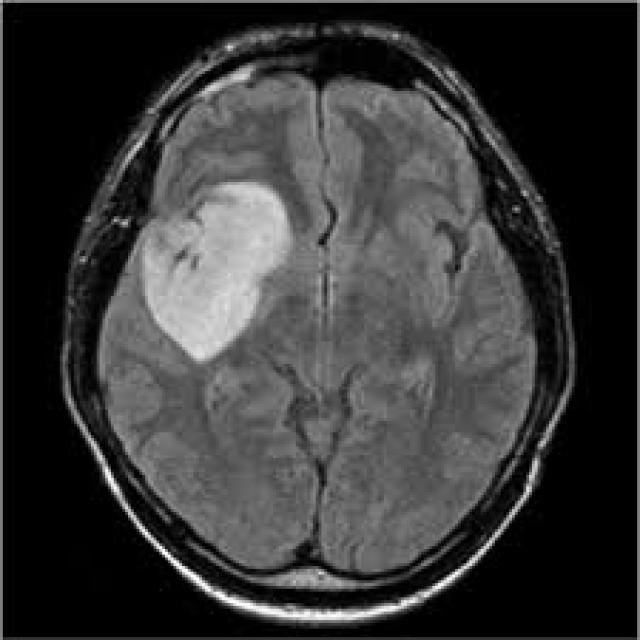Tumor-Cell: (141, 165, 275, 334)
